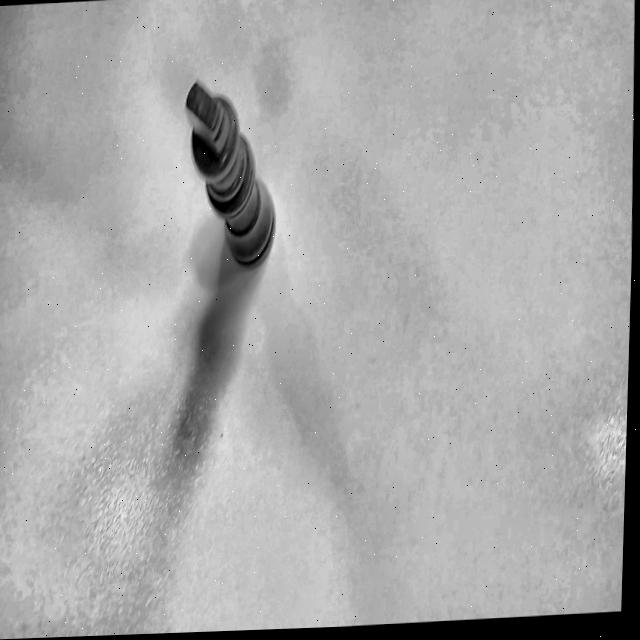black-king: (164, 53, 291, 291)
